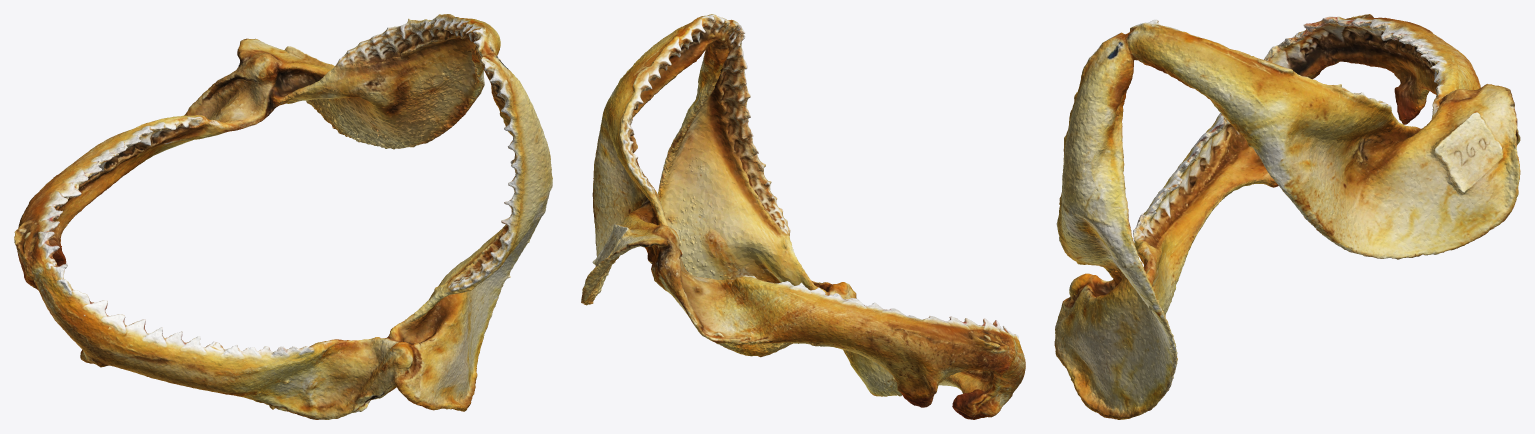
Rendered from MZUR3D-014.glb.
3 renders of one model, left to right at view 1: azimuth 30°, elevation 25°; view 2: azimuth 150°, elevation 25°; view 3: azimuth 270°, elevation 25°, orthographic. The views are drawn at different scales.
Visible parts, largest first — view 1: Bocca_squalo; view 2: Bocca_squalo; view 3: Bocca_squalo.
Boxes of the visible parts, box(x1,y1,x2,y2) form: Bocca_squalo: box(14, 14, 552, 419); Bocca_squalo: box(581, 14, 1025, 419); Bocca_squalo: box(1054, 14, 1520, 419).
Bounding box in the file's own units: 1.66 × 1.28 × 1.3.
1 material, 1 textured.
